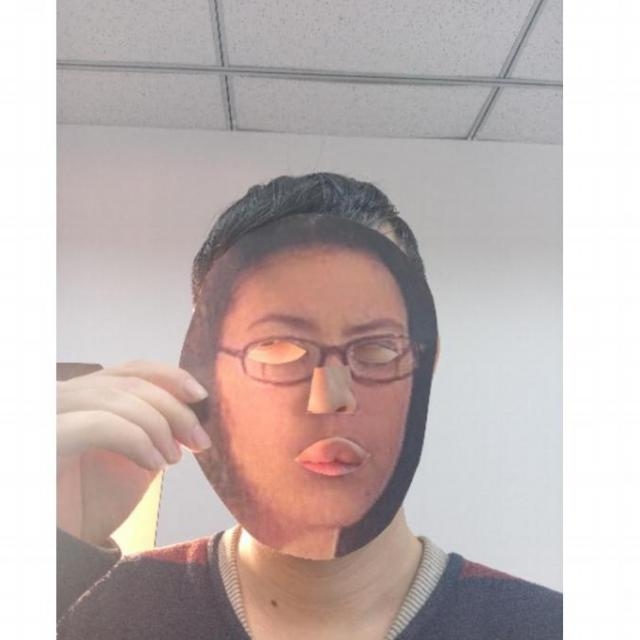mask: (172, 210, 444, 565)
